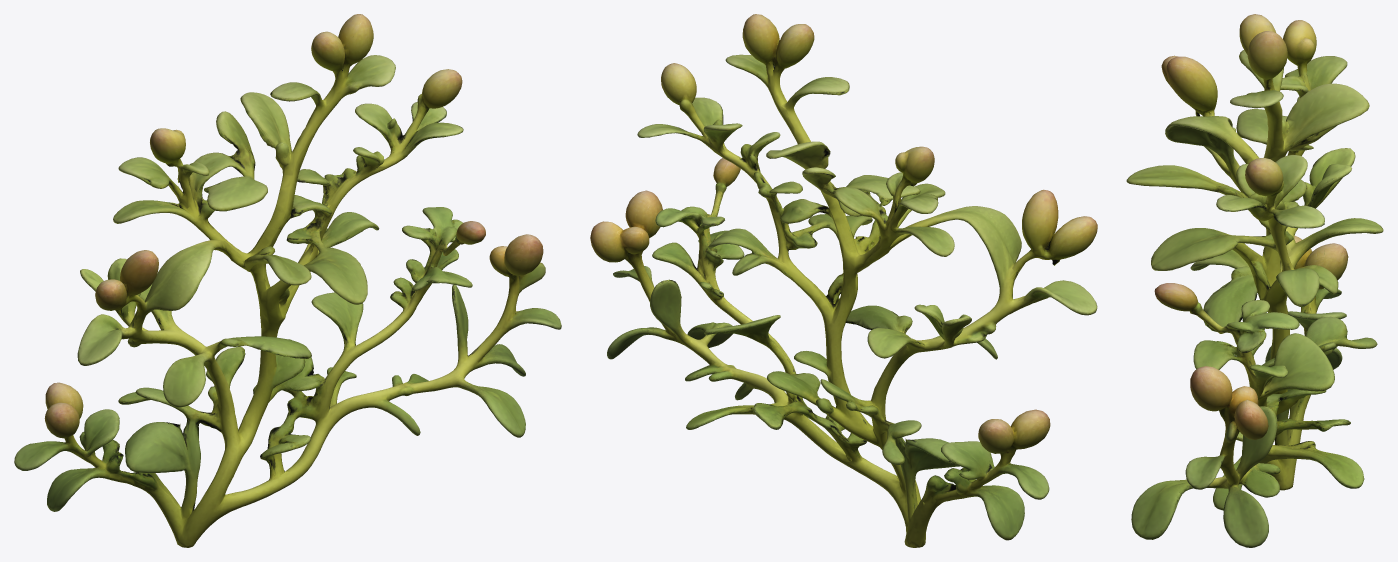
3 renders of one model, left to right at view 1: azimuth 30°, elevation 25°; view 2: azimuth 150°, elevation 25°; view 3: azimuth 270°, elevation 25°, orthographic. The views are drawn at different scales.
Visible parts, largest first — view 1: world; view 2: world; view 3: world.
Boxes of the visible parts, x1,y1,x2,y2 form: world: [14, 14, 561, 547]; world: [590, 14, 1097, 547]; world: [1126, 14, 1383, 547].
Bounding box in the file's own units: 0.1567 × 0.15 × 0.0641.
Materials: 1 (1 with a texture image).
